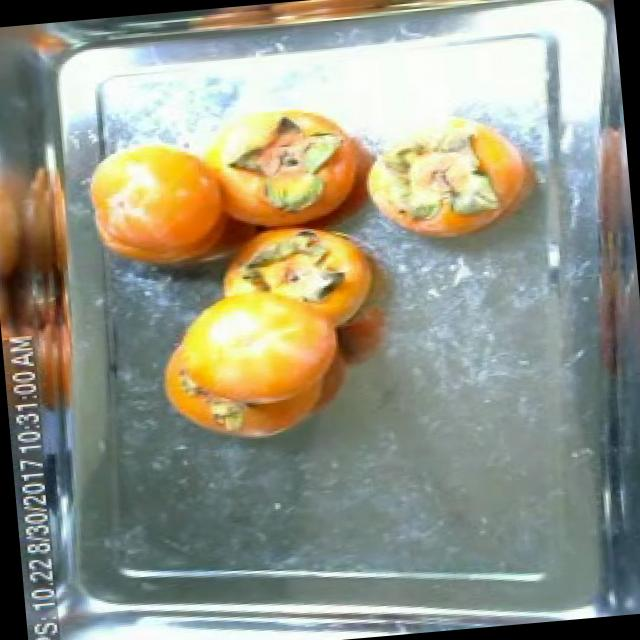Fruit: (138, 262, 358, 459), (62, 121, 246, 289), (452, 110, 554, 220)
